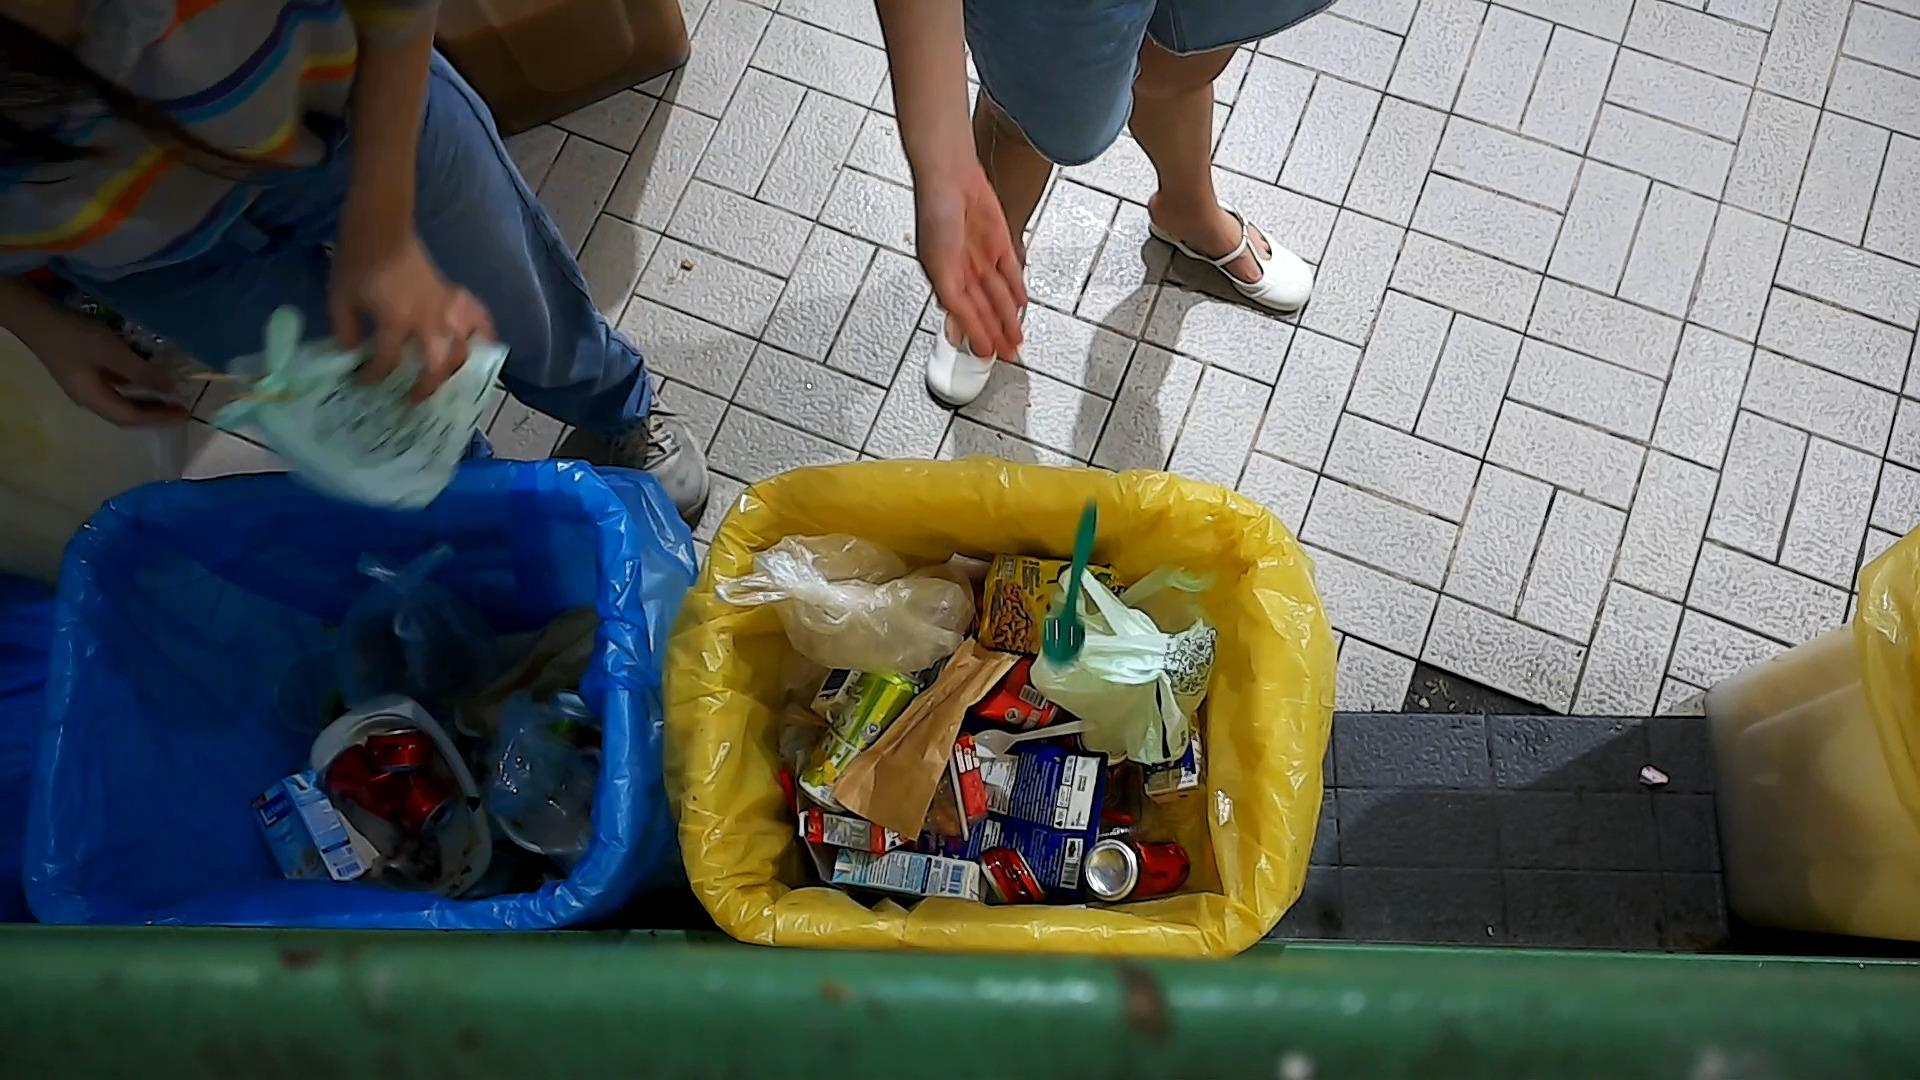can: (794, 667, 922, 811), (332, 727, 456, 840), (1081, 831, 1195, 899), (972, 844, 1048, 905), (364, 728, 439, 779)
dirty food container: (311, 702, 496, 897)
filled plastic bag: (190, 301, 513, 513), (720, 525, 973, 669), (320, 537, 491, 705), (496, 699, 596, 865)
milk carton: (244, 769, 365, 882), (828, 845, 988, 905), (795, 798, 914, 858)
paper bag: (827, 637, 1023, 845), (481, 595, 599, 694)
plastic bag: (1033, 567, 1222, 764)
plastic cutlery: (1038, 497, 1101, 666), (969, 719, 1101, 770)
snack packaging: (926, 716, 1108, 909), (973, 551, 1122, 655)
